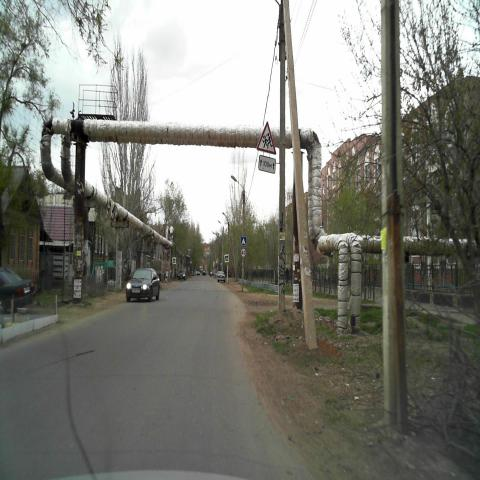8_2_1: (259, 155, 276, 174)
